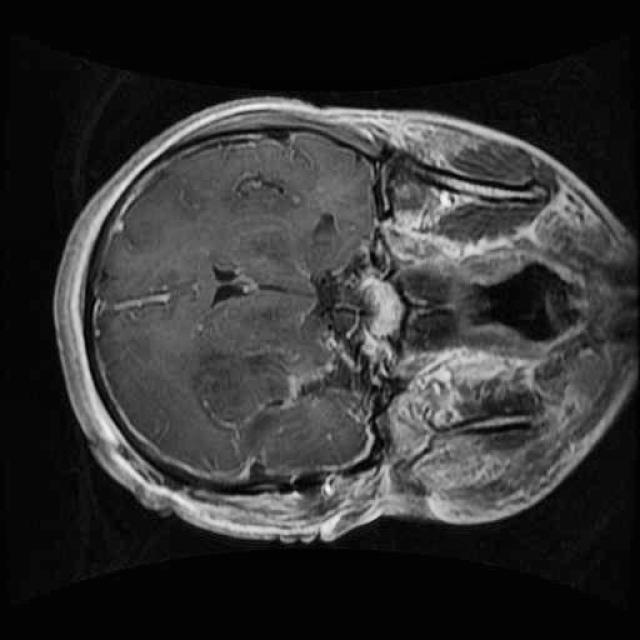Tumor: (185, 333, 380, 488)
